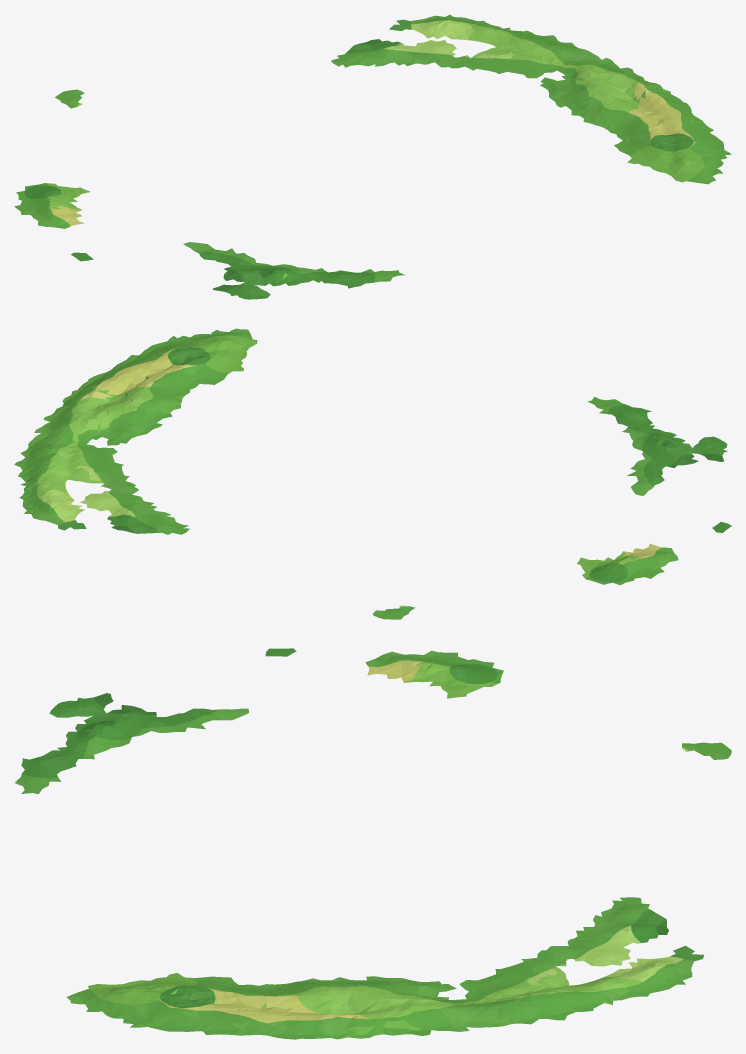
Rendered from Isl-atoll4-Relief.fbx.
3 renders of one model, top to bottom at view 1: azimuth 30°, elevation 25°; view 2: azimuth 150°, elevation 25°; view 3: azimuth 270°, elevation 25°, orthographic. The views are drawn at different scales.
Visible parts, largest first — view 1: Isl-atoll4-Relief-c22, Isl-atoll4-Relief-c21, Isl-atoll4-Relief-c11, Isl-atoll4-Relief-c12; view 2: Isl-atoll4-Relief-c22, Isl-atoll4-Relief-c21, Isl-atoll4-Relief-c11, Isl-atoll4-Relief-c12; view 3: Isl-atoll4-Relief-c22, Isl-atoll4-Relief-c21, Isl-atoll4-Relief-c11, Isl-atoll4-Relief-c12.
Boxes of the visible parts, <box> form: Isl-atoll4-Relief-c22: <box>331,14,669,114</box>; Isl-atoll4-Relief-c21: <box>572,89,731,184</box>; Isl-atoll4-Relief-c11: <box>71,242,404,299</box>; Isl-atoll4-Relief-c12: <box>14,89,90,228</box>; Isl-atoll4-Relief-c22: <box>14,390,189,534</box>; Isl-atoll4-Relief-c21: <box>73,328,257,416</box>; Isl-atoll4-Relief-c11: <box>587,396,731,532</box>; Isl-atoll4-Relief-c12: <box>373,544,678,619</box>; Isl-atoll4-Relief-c22: <box>337,897,703,1039</box>; Isl-atoll4-Relief-c21: <box>66,973,342,1039</box>; Isl-atoll4-Relief-c11: <box>14,648,296,794</box>; Isl-atoll4-Relief-c12: <box>365,650,731,759</box>.
Bounding box in the file's own units: 102 × 1.26 × 79.2.
